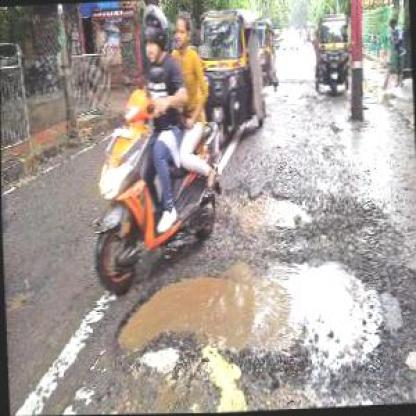pothole: (110, 252, 388, 378), (233, 182, 313, 236)
